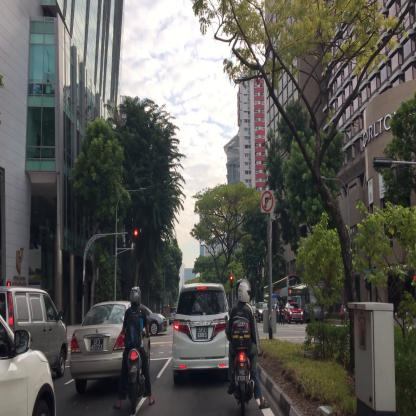red_traffic_light: (127, 230, 138, 236), (230, 274, 232, 288)
